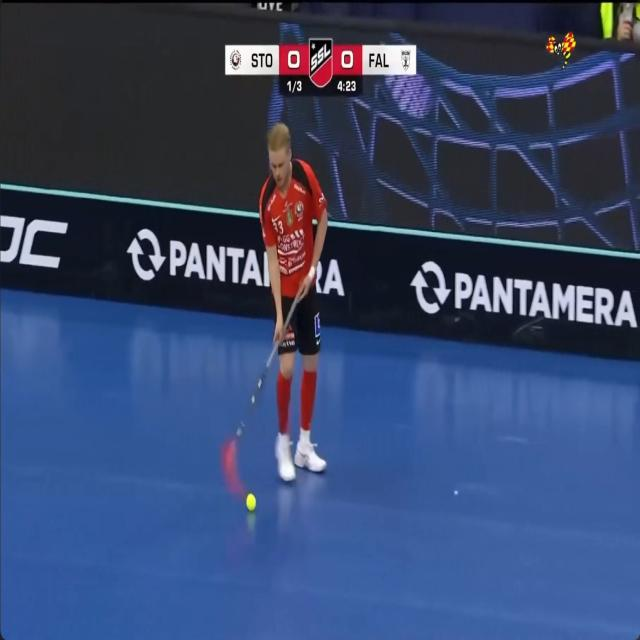Balls: (246, 512, 256, 532), (633, 19, 640, 42), (246, 494, 255, 510), (236, 428, 241, 436), (251, 395, 255, 404), (258, 379, 261, 387), (453, 490, 458, 494)
player: (259, 123, 327, 482)
stick: (250, 340, 281, 406), (221, 421, 245, 492), (286, 294, 299, 320)
